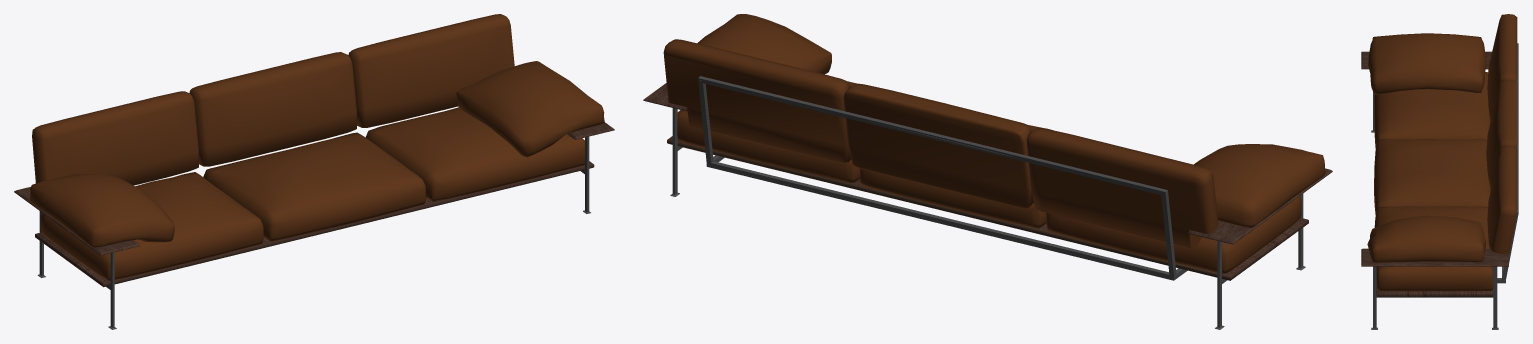
The model's file is brown.glb.
3 views of the same model, side by side, from view 1: azimuth 30°, elevation 25°; view 2: azimuth 150°, elevation 25°; view 3: azimuth 270°, elevation 25° (orthographic). The views are drawn at different scales.
Parts seen in each view (by area): view 1: Object_2; view 2: Object_2; view 3: Object_2.
Part boxes in pixels (x1=…): Object_2: x1=14, y1=14, x2=614, y2=329; Object_2: x1=643, y1=14, x2=1332, y2=329; Object_2: x1=1361, y1=14, x2=1518, y2=329.
Bounding box in the file's own units: 2.75 × 0.7208 × 0.85.
1 material, 1 textured.
